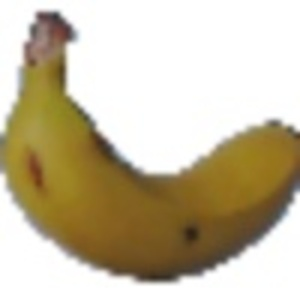banana: (7, 7, 297, 284)
